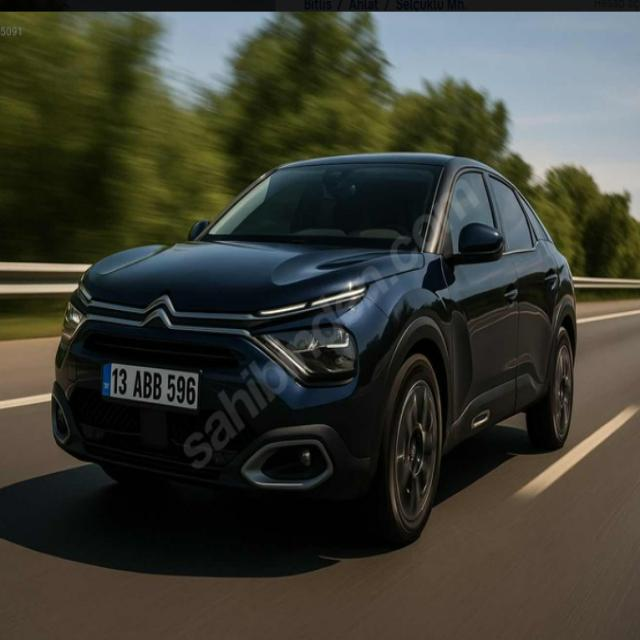citroen: (136, 281, 185, 341)
